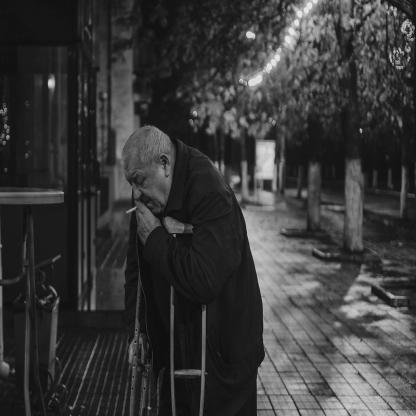smoking: (126, 205, 140, 214)
